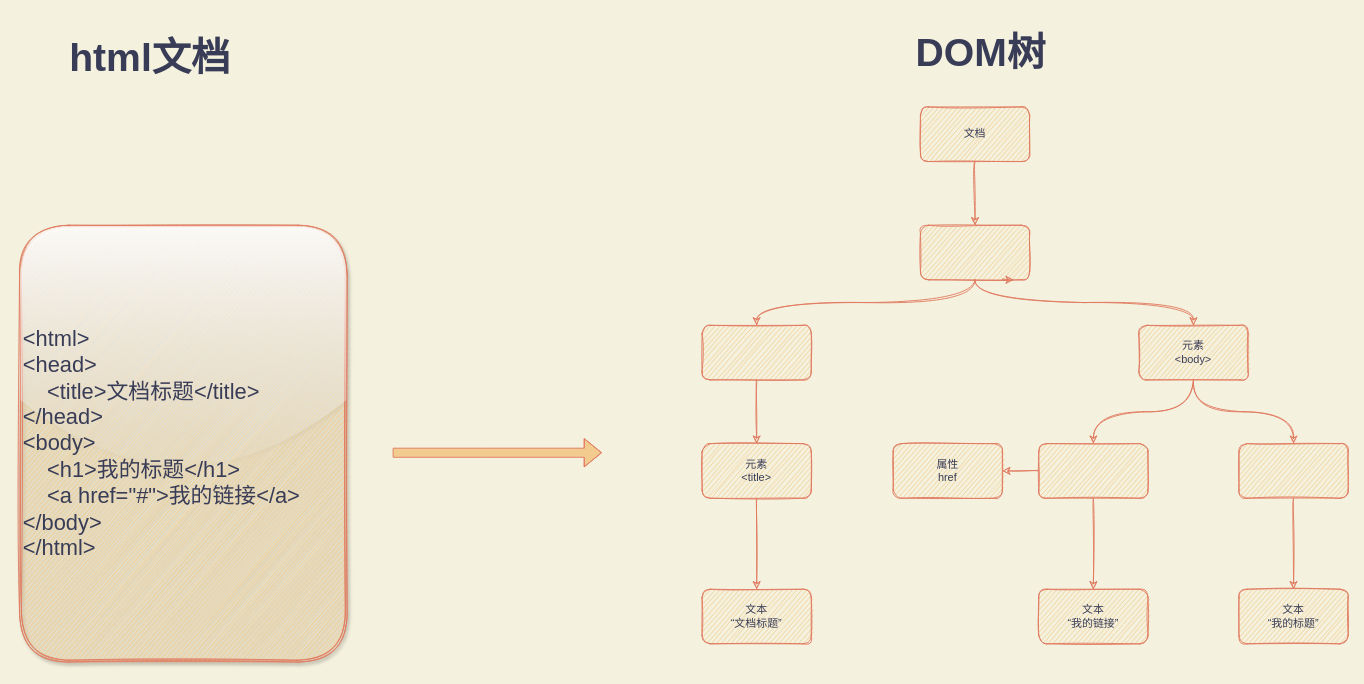
The diagram is 1364 pixels wide and 684 high, and some of its shapes have lost their labels. Here are the shapes that lost their labels. From the top down, the centre of each, then its label:
At point (975, 252): "根元素 <html>".
At point (756, 352): "元素 <head>".
At point (1093, 470): "元素 <a>".
At point (1293, 470): "元素 <h1>".
